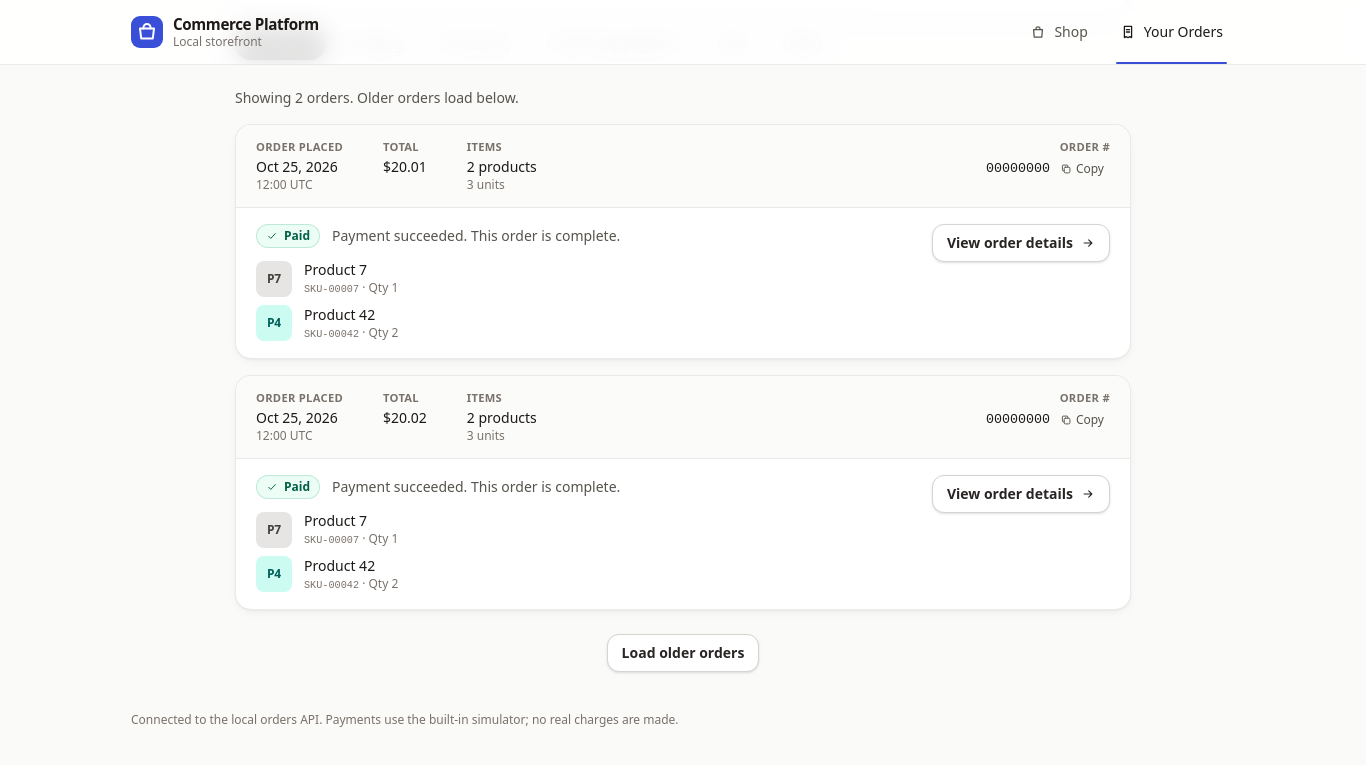
Your Orders: paging and errors › loads older orders with the cursor, keeping the order, and refreshes from the start
(page scrolled)
Click the button "Load older orders": x=683, y=653 x1=607 y1=634 x2=759 y2=672
(page scrolled)
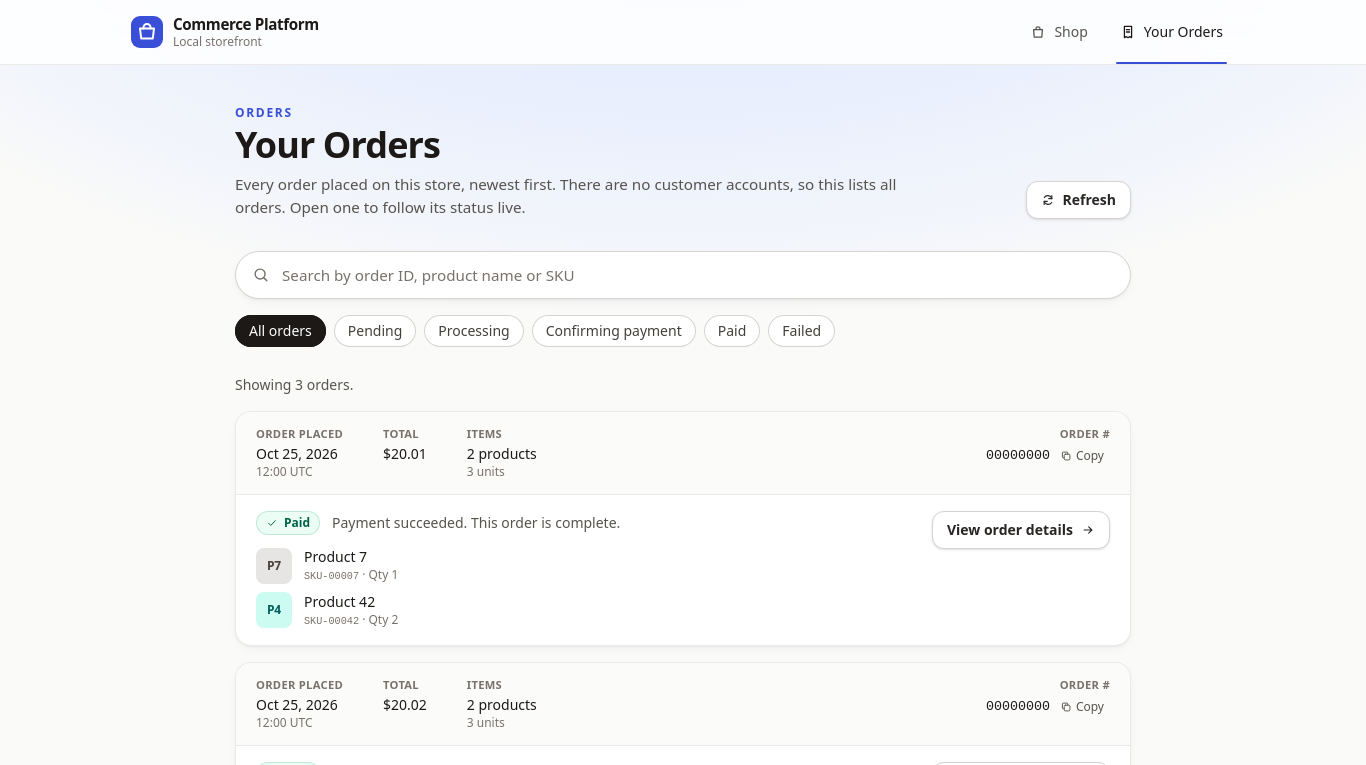
Expected: the button "Load older orders" is gone
Click the button "Refresh": x=1078, y=200 x1=1026 y1=181 x2=1131 y2=219
(page scrolled)
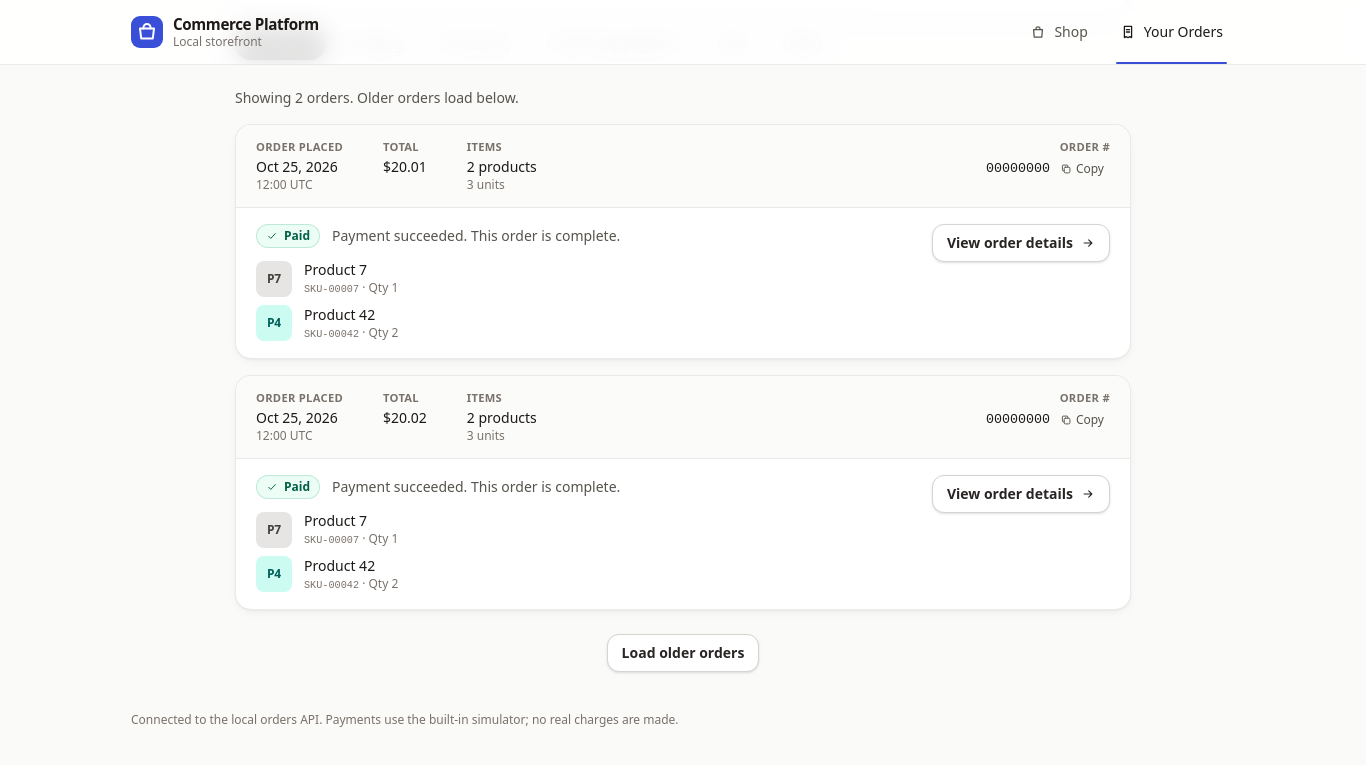
Expected: the button "Load older orders" is shown, x1=607 y1=634 x2=759 y2=672
